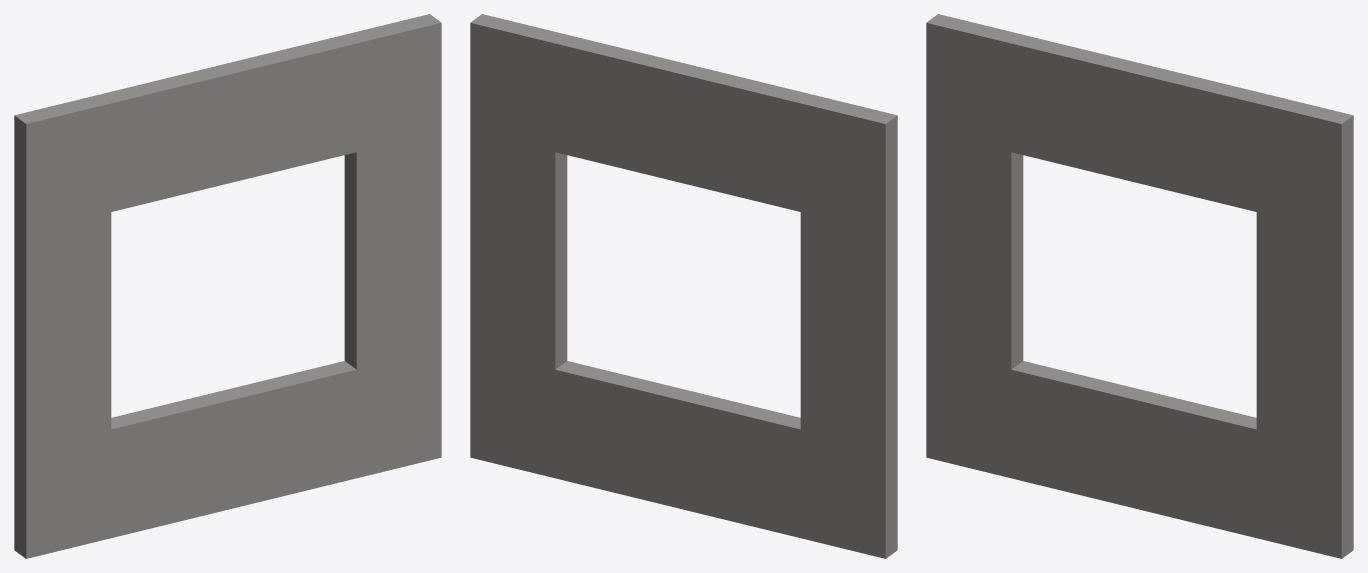
Rendered from Wal_2_C.fbx.
3 views of the same model, side by side, from view 1: azimuth 30°, elevation 25°; view 2: azimuth 150°, elevation 25°; view 3: azimuth 330°, elevation 25° (orthographic).
Parts seen in each view (by area): view 1: pCube35; view 2: pCube35; view 3: pCube35.
Part boxes in pixels (<box>): pCube35: <box>14,14,441,558</box>; pCube35: <box>470,14,897,558</box>; pCube35: <box>926,14,1353,558</box>.
Bounding box in the file's own units: 4 × 4 × 0.2.
1 material, 1 textured.
